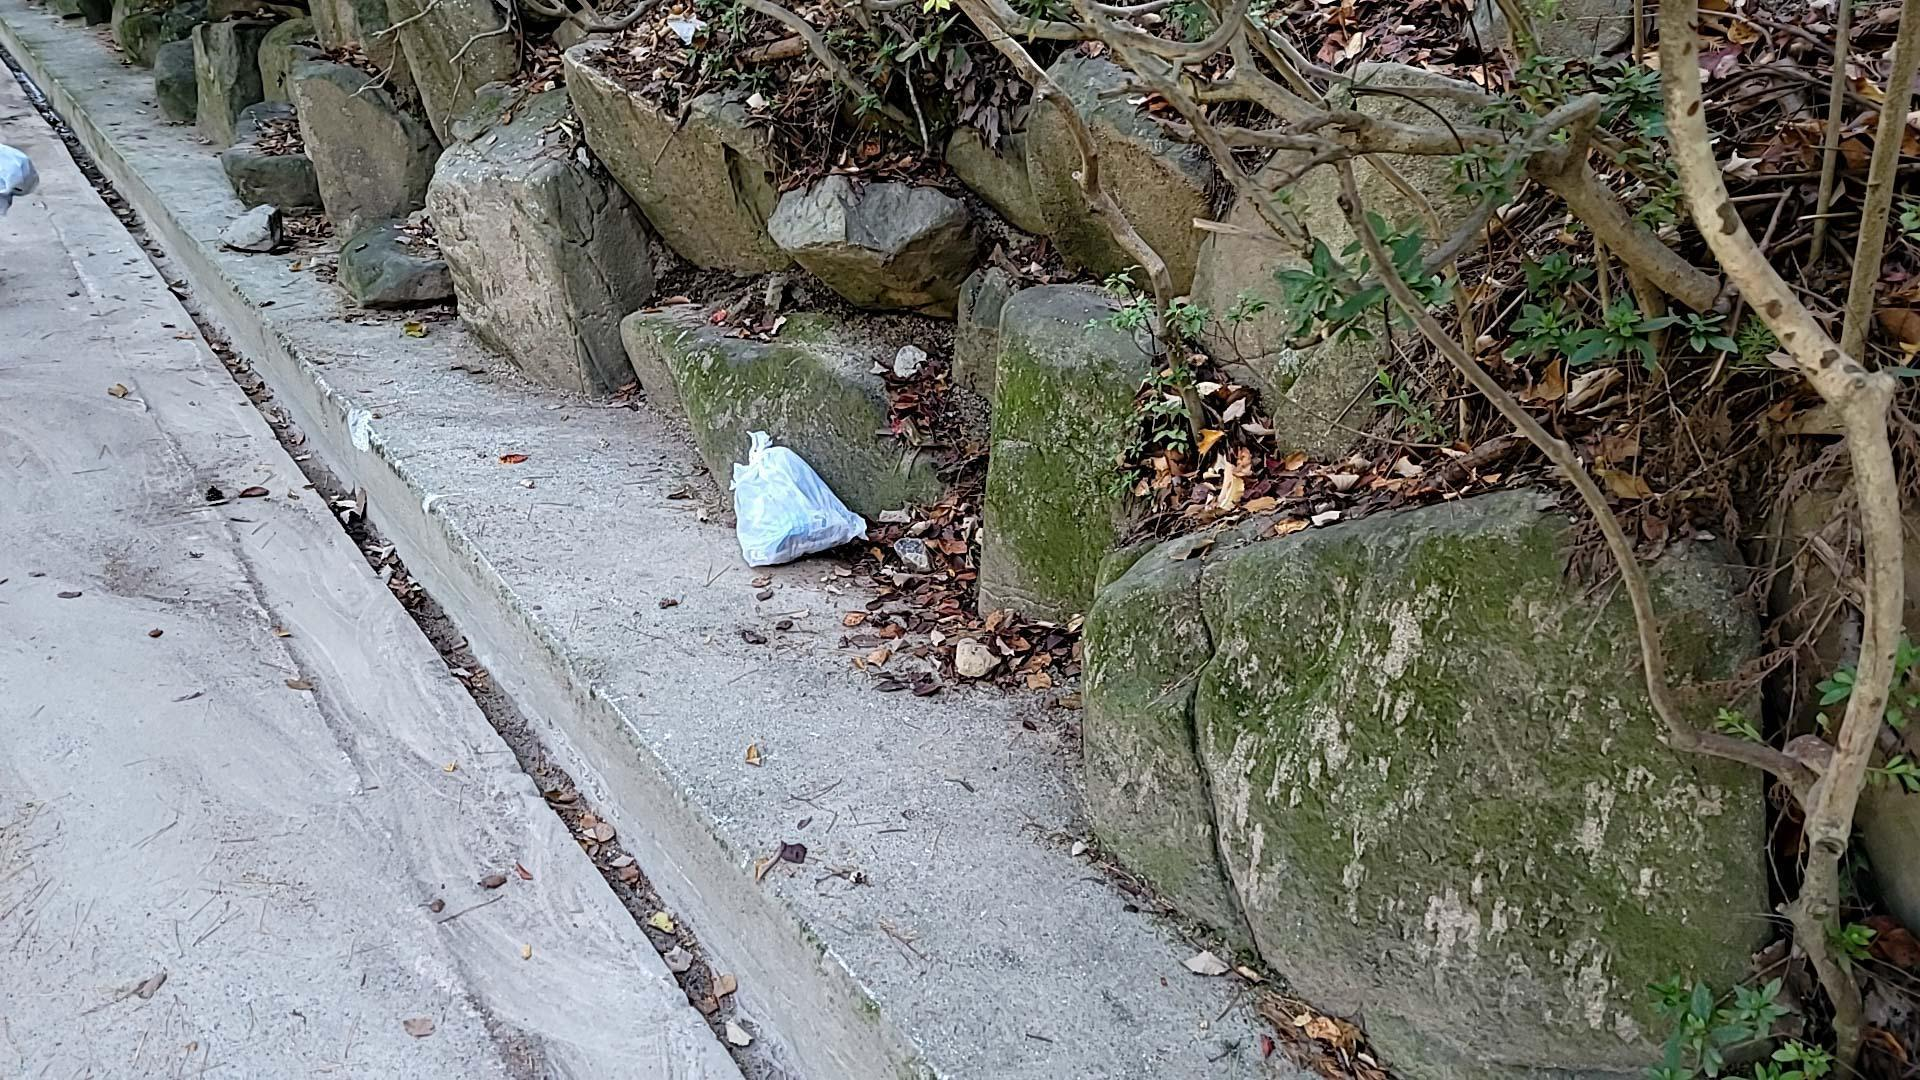white_bag: (713, 426, 884, 568)
